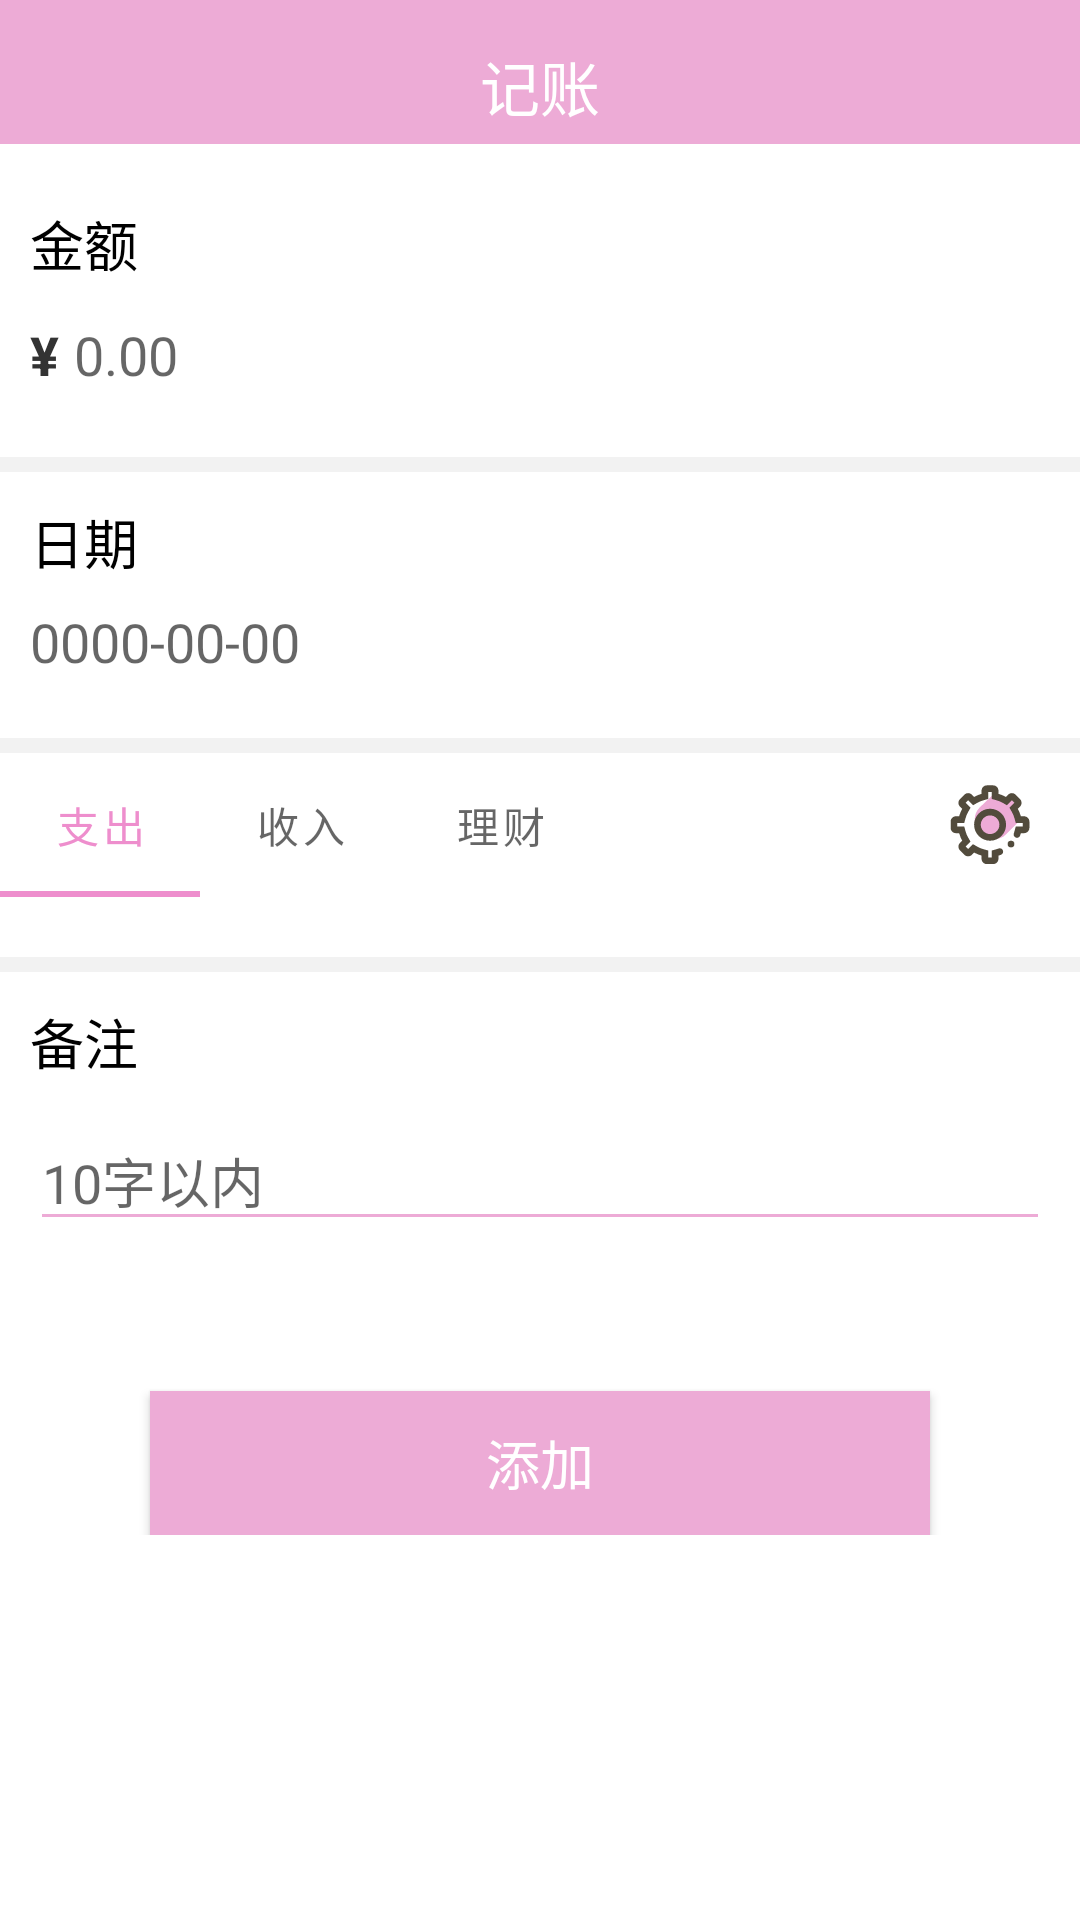

Icons on this 1080 x 1920 Android screen, each with the point to tap as (x,y):
shezhi: (990,824)
